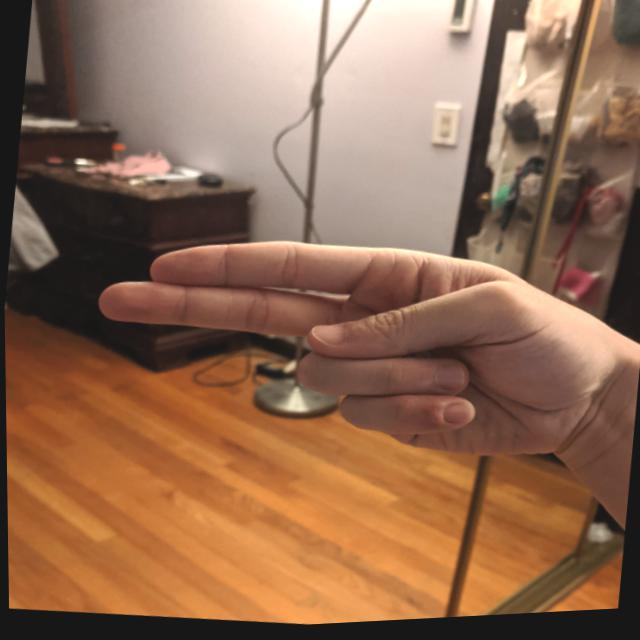H: (71, 201, 631, 496)
